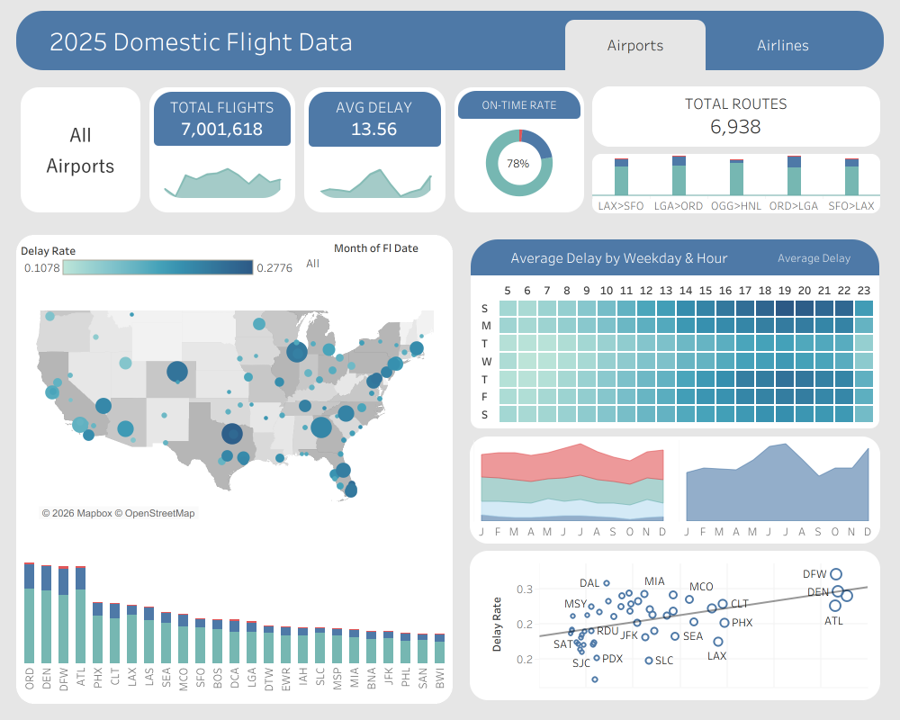

The dashboard page shown, as its layout file describes it:
{"tool":"tableau","page":{"name":"Airports","canvas":[1000,800],"ordinal":1},"visuals":[{"type":"text","box":[18,12,606,66]},{"type":"dashboard-object","box":[624,12,164,66]},{"type":"dashboard-object","box":[788,12,164,66]},{"type":"worksheet","title":"Delay/Cancellation Rate","mark":"Pie","cols":["Calculation_1562139845533713","Calculation_1562139845541907"],"box":[500,92,166,149]},{"type":"worksheet","title":"Airport Total Routes","mark":"Automatic","box":[666,92,316,75]},{"type":"worksheet","title":"Airport name","mark":"Automatic","box":[24,98,131,137]},{"type":"worksheet","title":"Total Flights KPI","mark":"Automatic","box":[167,98,160,68]},{"type":"worksheet","title":"Average Delay KPI","mark":"Automatic","box":[339,98,155,69]},{"type":"worksheet","title":"Flight Volume by Month","mark":"Area","rows":["Calculation_1562139826475012","Calculation_1562139826475012"],"cols":["fl_date"],"box":[167,166,160,69]},{"type":"worksheet","title":"Average Delay by Month","mark":"Area","rows":["Calculation_1562139826774021","Calculation_1562139826774021"],"cols":["fl_date"],"box":[339,167,155,68]},{"type":"worksheet","title":"Airport Top Routes","mark":"Automatic","cols":["Calculation_1108324908216320"],"box":[666,167,316,74]},{"type":"legend","title":"Map","param":"[federated.1rw0wj514wbz2k1dyeug803rc4i3].[usr:Calculation_1562139826774021:qk]","box":[19,262,305,48]},{"type":"filter","title":"Map","param":"[federated.1rw0wj514wbz2k1dyeug803rc4i3].[mn:fl_date:ok]","box":[324,262,168,48]},{"type":"text","box":[513,266,330,40]},{"type":"parameter","param":"[Parameters].[Parameter 1]","box":[843,266,134,40]},{"type":"worksheet","title":"Total Flights by Weekday & Hour","mark":"Automatic","rows":["fl_date"],"cols":["scheduled_dep_hour"],"box":[508,306,474,194]},{"type":"worksheet","title":"Map","mark":"Circle","rows":["latitude"],"cols":["longitude"],"box":[19,310,473,290]},{"type":"worksheet","title":"Delays by Reason","mark":"Area","cols":["fl_date"],"box":[508,500,474,152]},{"type":"worksheet","title":"Top 15 Airports by Volume","mark":"Bar","cols":["origin_airport"],"box":[19,600,473,181]},{"type":"worksheet","title":"Top States","mark":"Automatic","cols":["state_abbreviation"],"box":[522,666,446,102]}]}

Visuals, with their boxes in screenshot pixels (x1, y1, x2, y2), scaled from the page's 1000x800 canvas onto the 900x720 screenshot:
text: box=[16, 11, 562, 70]
dashboard-object: box=[562, 11, 709, 70]
dashboard-object: box=[709, 11, 857, 70]
"Delay/Cancellation Rate" worksheet (Pie marks): box=[450, 83, 599, 217]
"Airport Total Routes" worksheet: box=[599, 83, 884, 150]
"Airport name" worksheet: box=[22, 88, 140, 212]
"Total Flights KPI" worksheet: box=[150, 88, 294, 149]
"Average Delay KPI" worksheet: box=[305, 88, 445, 150]
"Flight Volume by Month" worksheet (Area marks): box=[150, 149, 294, 212]
"Average Delay by Month" worksheet (Area marks): box=[305, 150, 445, 212]
"Airport Top Routes" worksheet: box=[599, 150, 884, 217]
"Map" legend: box=[17, 236, 292, 279]
"Map" filter: box=[292, 236, 443, 279]
text: box=[462, 239, 759, 275]
parameter: box=[759, 239, 879, 275]
"Total Flights by Weekday & Hour" worksheet: box=[457, 275, 884, 450]
"Map" worksheet (Circle marks): box=[17, 279, 443, 540]
"Delays by Reason" worksheet (Area marks): box=[457, 450, 884, 587]
"Top 15 Airports by Volume" worksheet (Bar marks): box=[17, 540, 443, 703]
"Top States" worksheet: box=[470, 599, 871, 691]
